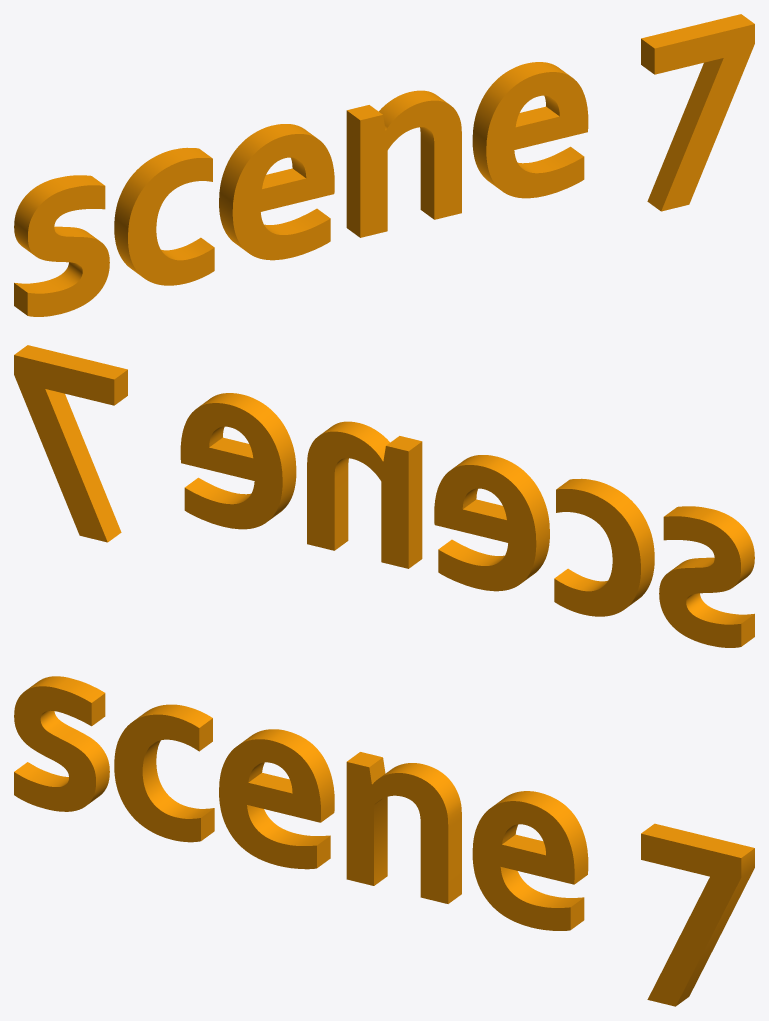
3 views of the same model, one above another, from view 1: azimuth 30°, elevation 25°; view 2: azimuth 150°, elevation 25°; view 3: azimuth 330°, elevation 25° (orthographic).
Visible parts, largest first — view 1: Polygon_3, Polygon_5, Polygon_4, Polygon_2, Polygon, Polygon_6; view 2: Polygon_3, Polygon_5, Polygon_4, Polygon_2, Polygon, Polygon_6; view 3: Polygon_3, Polygon_5, Polygon_4, Polygon, Polygon_2, Polygon_6.
Boxes of the visible parts, x1,y1,x2,y2 form: Polygon_3: (472,62,588,198); Polygon_5: (219,124,334,260); Polygon_4: (346,90,461,237); Polygon_2: (641,14,754,211); Polygon: (14,175,109,316); Polygon_6: (114,147,214,285); Polygon_3: (180,393,296,529); Polygon_5: (434,455,549,591); Polygon_4: (307,421,422,568); Polygon_2: (14,345,127,542); Polygon: (659,506,754,647); Polygon_6: (554,478,654,616); Polygon_3: (472,791,588,930); Polygon_5: (219,729,334,869); Polygon_4: (346,752,461,903); Polygon: (14,676,109,811); Polygon_2: (641,823,754,1006); Polygon_6: (114,704,214,842).
Bounding box in the file's own units: 612 × 135 × 20.
